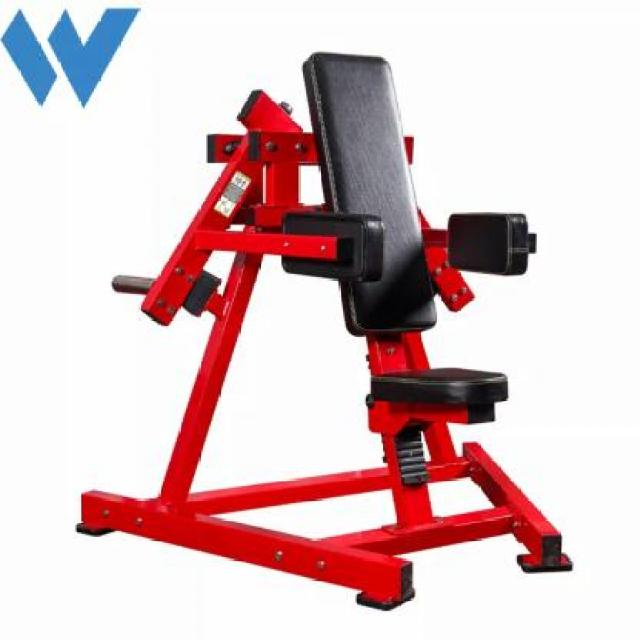lateral raises machine: (115, 50, 576, 612)
